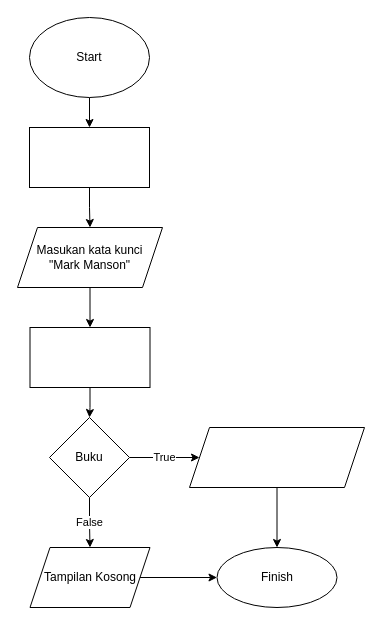
Image size: 382x625. Some labels were removed from this diagram. The centre of each missing label's shape, as x and y in pixels:
Click Search bar: pixel 89 157
Mencari data buku di Database: pixel 89 357
Tampilkan sebuah list buku "Mark Manson": pixel 276 457
